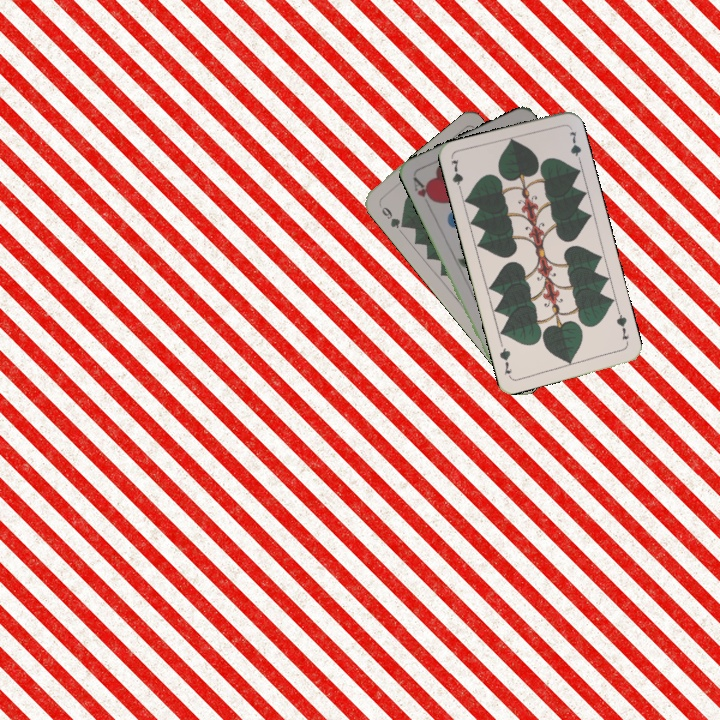G7: (447, 155, 466, 196), (612, 307, 631, 343)
G9: (375, 200, 409, 231)
HA: (409, 172, 437, 211)
